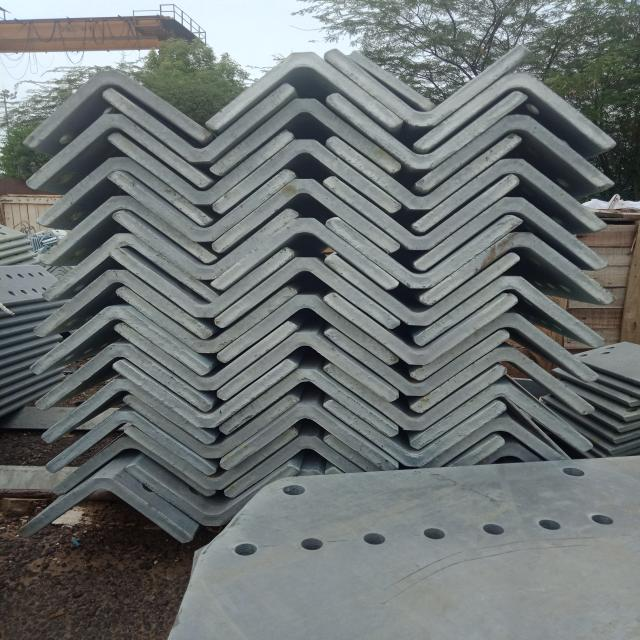metal-angles: (324, 45, 531, 127), (412, 73, 617, 153), (326, 91, 529, 169), (205, 52, 403, 131), (103, 82, 295, 163), (416, 115, 615, 192), (326, 133, 522, 209), (210, 98, 401, 175), (420, 232, 618, 306), (325, 215, 523, 289), (413, 158, 608, 233), (324, 174, 519, 249), (414, 197, 611, 271), (24, 70, 210, 148), (325, 252, 520, 325), (212, 139, 401, 214), (26, 113, 211, 189), (323, 293, 518, 365), (213, 179, 400, 254), (107, 130, 294, 204), (413, 276, 605, 348), (210, 218, 400, 290), (113, 208, 299, 280), (107, 171, 295, 242), (215, 257, 400, 329), (108, 248, 294, 318), (411, 313, 599, 382), (113, 359, 298, 428), (217, 295, 398, 365), (323, 328, 509, 396), (115, 322, 300, 390), (410, 384, 592, 453), (217, 333, 398, 402), (410, 347, 595, 414), (43, 233, 220, 303), (30, 307, 209, 376), (220, 369, 399, 438), (40, 196, 216, 266), (33, 270, 211, 339), (323, 399, 506, 466), (36, 157, 211, 227), (114, 287, 298, 353), (323, 364, 507, 430), (220, 405, 398, 471), (35, 345, 212, 411), (18, 478, 193, 543), (123, 394, 300, 458), (42, 379, 215, 444), (46, 411, 217, 476), (123, 464, 300, 526), (124, 427, 297, 490), (53, 437, 215, 496), (224, 436, 366, 498), (418, 418, 569, 467)
